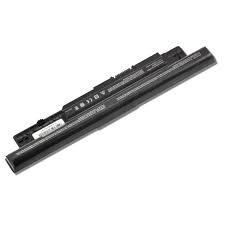battery: (2, 31, 225, 187)
